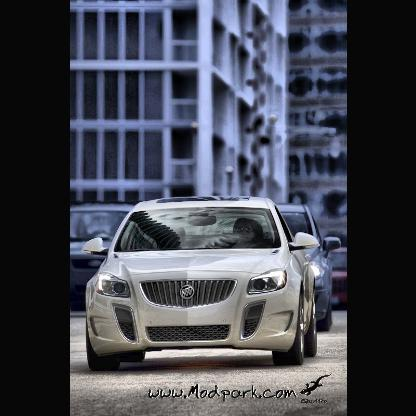Buick Regal GS 2012: (82, 191, 345, 374)
